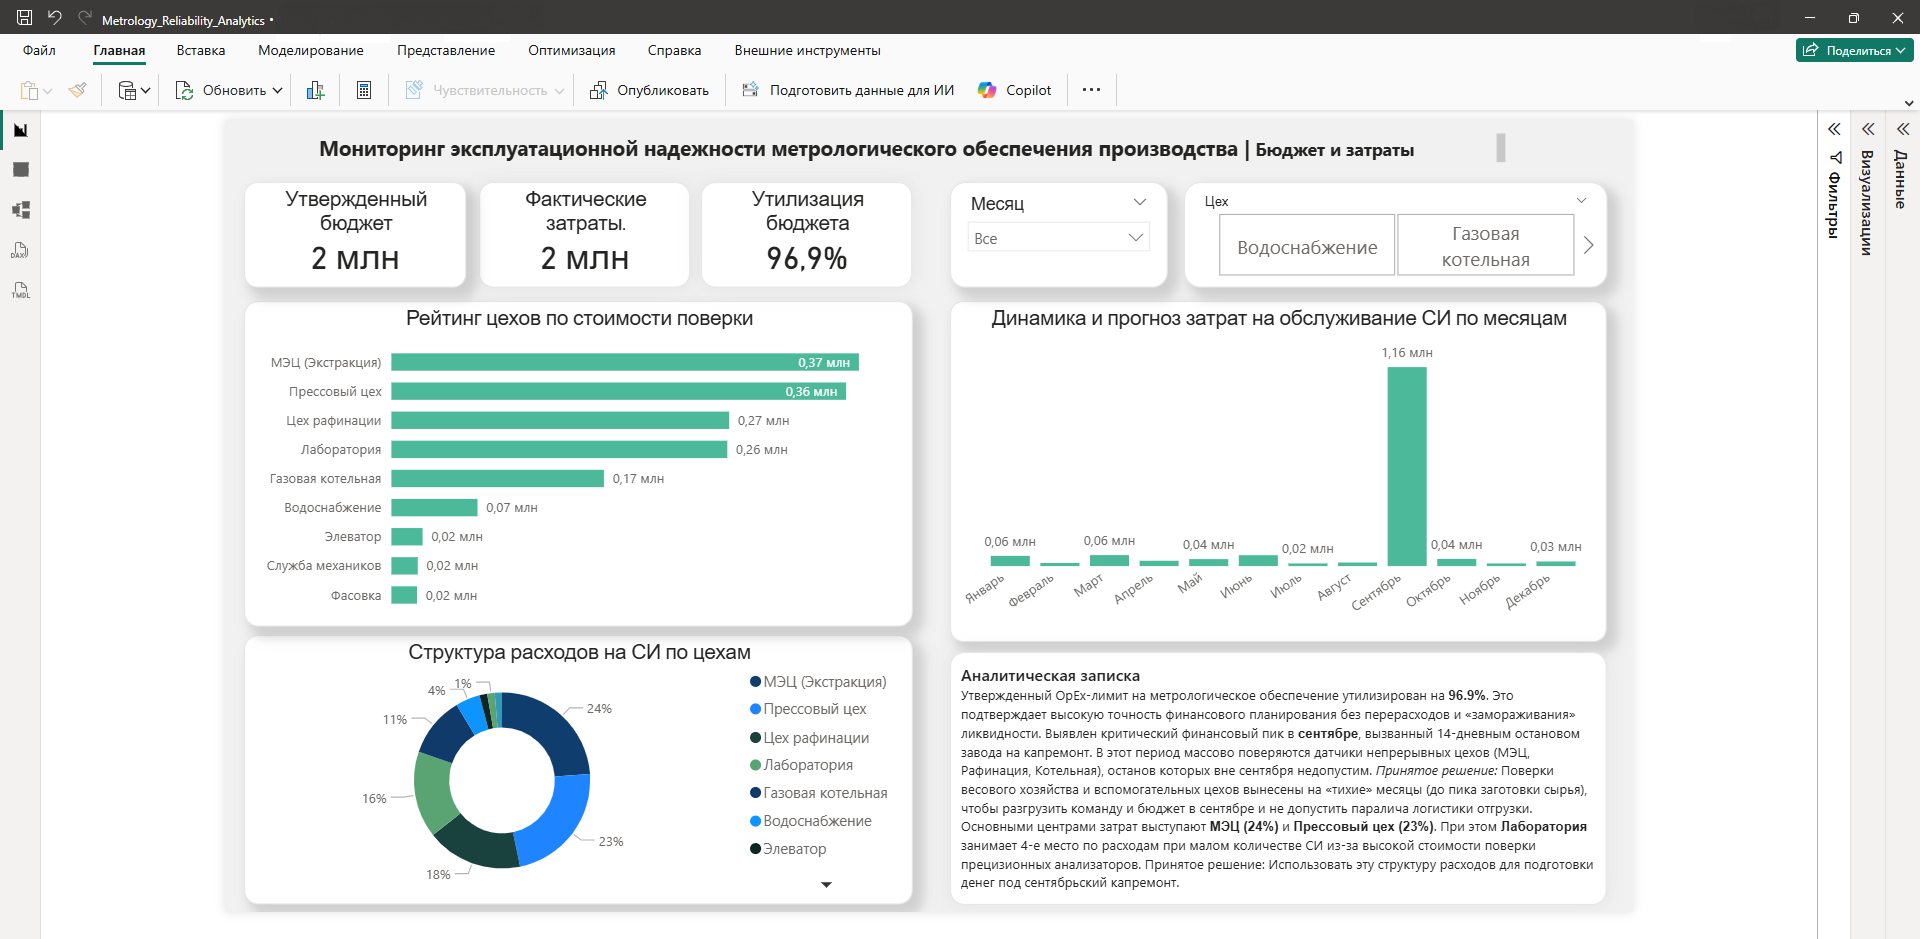

The page's visual inventory and layout, read from the dashboard file:
{"tool":"powerbi","page":{"name":"Бюджет и затраты","canvas":[1280,720],"ordinal":1},"visuals":[{"type":"donutChart","title":"Структура расходов на СИ по цехам","fields":{"Y":["Меры.Доля_затрат"],"Category":["Цеха.Цех"]},"box":[17.3,468.2,608.2,245.5],"z":0},{"type":"columnChart","title":"Динамика и прогноз затрат на обслуживание СИ по месяцам","fields":{"Category":["Календарь.Date.Изменение.Иерархия дат.Месяц"],"Y":["Меры.Плановая_стоимость"]},"box":[659.1,164.5,597.3,310],"z":1000},{"type":"barChart","title":"Рейтинг цехов по стоимости поверки","fields":{"Category":["Цеха.Цех"],"Y":["Меры.Плановая_стоимость"]},"box":[17.3,164.5,608.2,296.4],"z":2000},{"type":"card","title":"Фактические затраты.","fields":{"Values":["Меры.Факт_стоимость"]},"box":[230.5,56.7,192.4,95.8],"z":3000},{"type":"card","title":"Утвержденный бюджет","fields":{"Values":["Меры.Плановая_стоимость"]},"box":[16.8,56.7,202.2,95.8],"z":4000},{"type":"slicer","fields":{"Values":["Календарь.Date.Изменение.Иерархия дат.Месяц"]},"box":[658.8,56.7,197.7,95.8],"z":5000},{"type":"slicer","fields":{"Values":["Цеха.Цех"]},"box":[871.6,56.7,384.8,95.8],"z":6000},{"type":"card","title":"Утилизация бюджета","fields":{"Values":["Меры.Утилизация_Бюджета_%"]},"box":[432.7,56.7,192.4,95.8],"z":7000},{"type":"textbox","box":[80.2,7.1,1089.4,42.8],"z":8000},{"type":"textbox","box":[659.1,483.6,597.3,230],"z":9000}]}

Visuals, with their boxes on the page's 1280x720 design canvas (x1, y1, x2, y2). These are canvas units, not pixel positions in the 1920x939 screenshot, which may show the page scaled, cropped or inside an application window:
"Структура расходов на СИ по цехам" donutChart: box=[17, 468, 626, 714]
"Динамика и прогноз затрат на обслуживание СИ по месяцам" columnChart: box=[659, 164, 1256, 474]
"Рейтинг цехов по стоимости поверки" barChart: box=[17, 164, 626, 461]
"Фактические затраты." card: box=[230, 57, 423, 152]
"Утвержденный бюджет" card: box=[17, 57, 219, 152]
slicer - Календарь.Date.Изменение.Иерархия дат.Месяц: box=[659, 57, 856, 152]
slicer - Цеха.Цех: box=[872, 57, 1256, 152]
"Утилизация бюджета" card: box=[433, 57, 625, 152]
textbox: box=[80, 7, 1170, 50]
textbox: box=[659, 484, 1256, 714]
